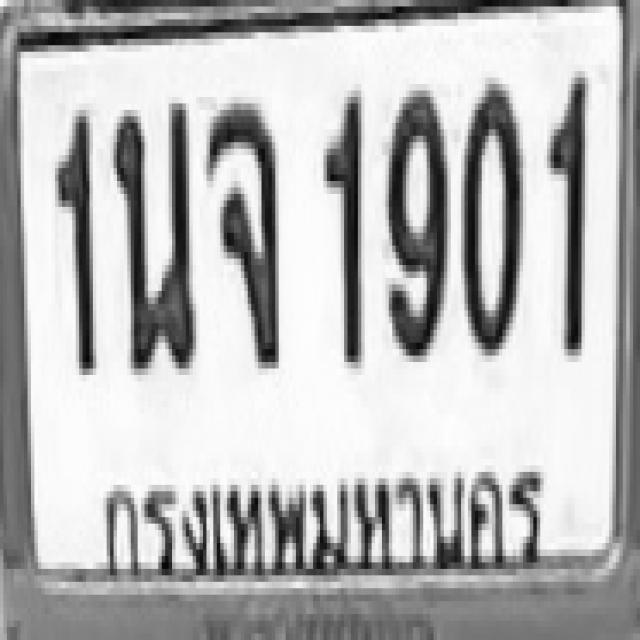0: (461, 78, 520, 349)
1: (544, 68, 585, 352), (320, 87, 361, 366), (52, 106, 93, 372)
17ChorChan: (203, 94, 279, 365)
34NorNu: (109, 97, 194, 368)
9: (385, 84, 444, 356)
Bangkok: (94, 452, 549, 589)
